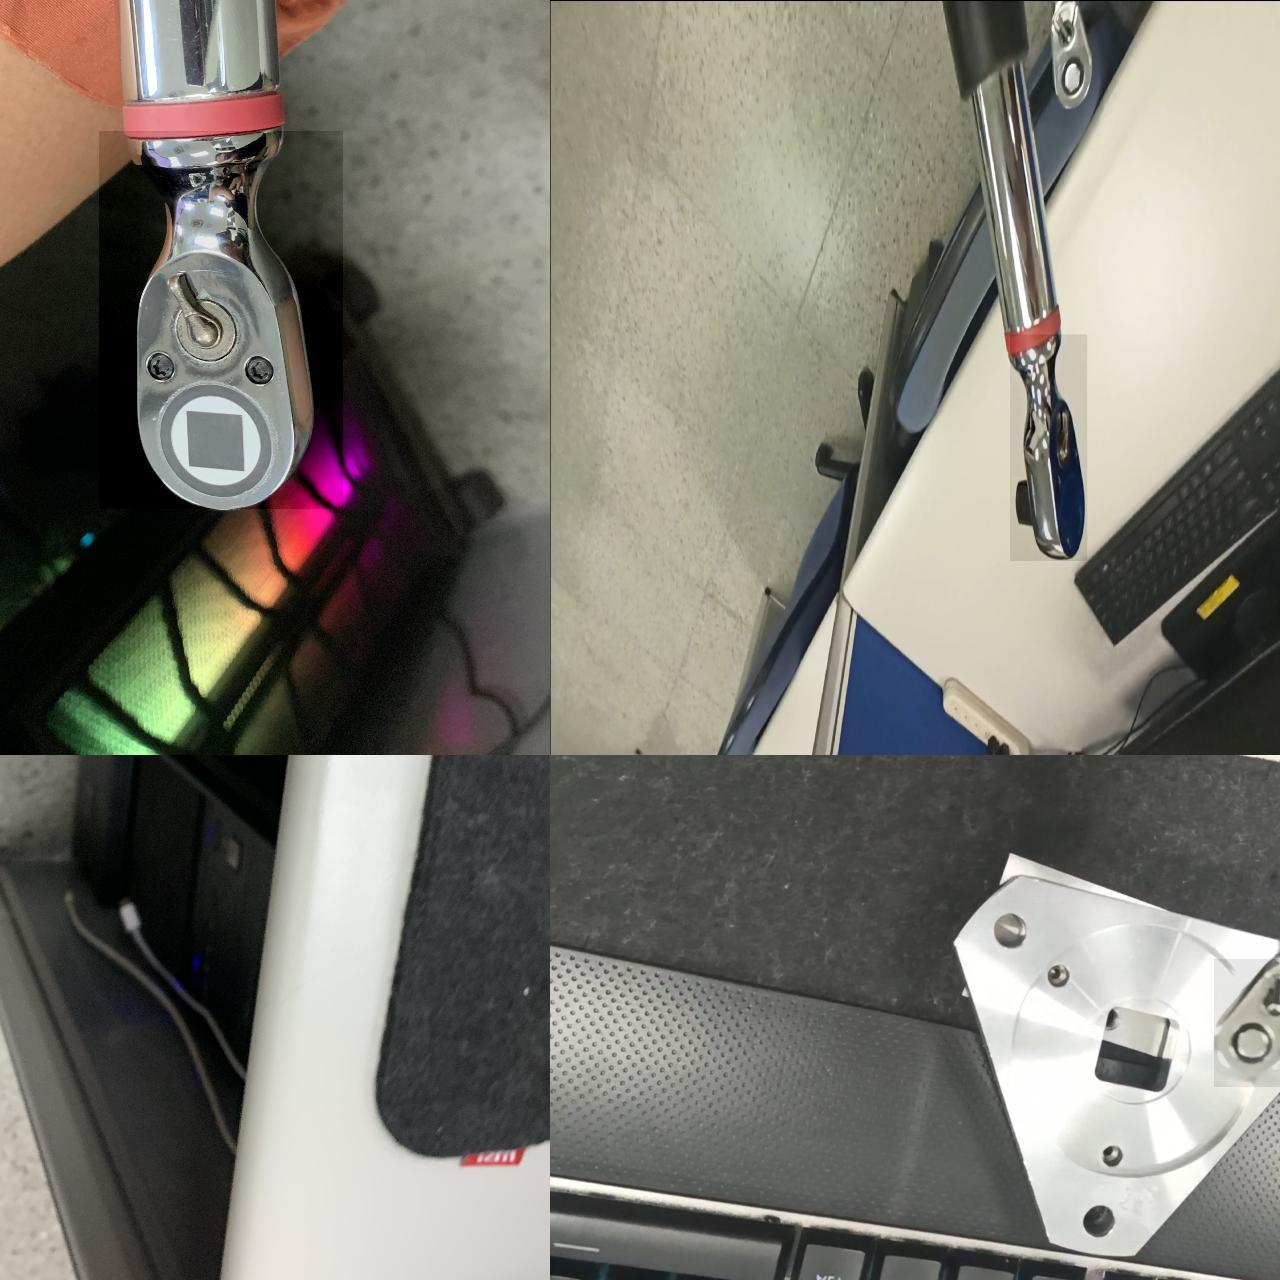Tool: (98, 130, 342, 508), (1009, 332, 1087, 560), (1213, 958, 1280, 1086), (1052, 0, 1092, 111)
hole: (991, 906, 1035, 957), (1082, 1197, 1123, 1244), (1044, 960, 1073, 998), (1095, 1142, 1126, 1173)
